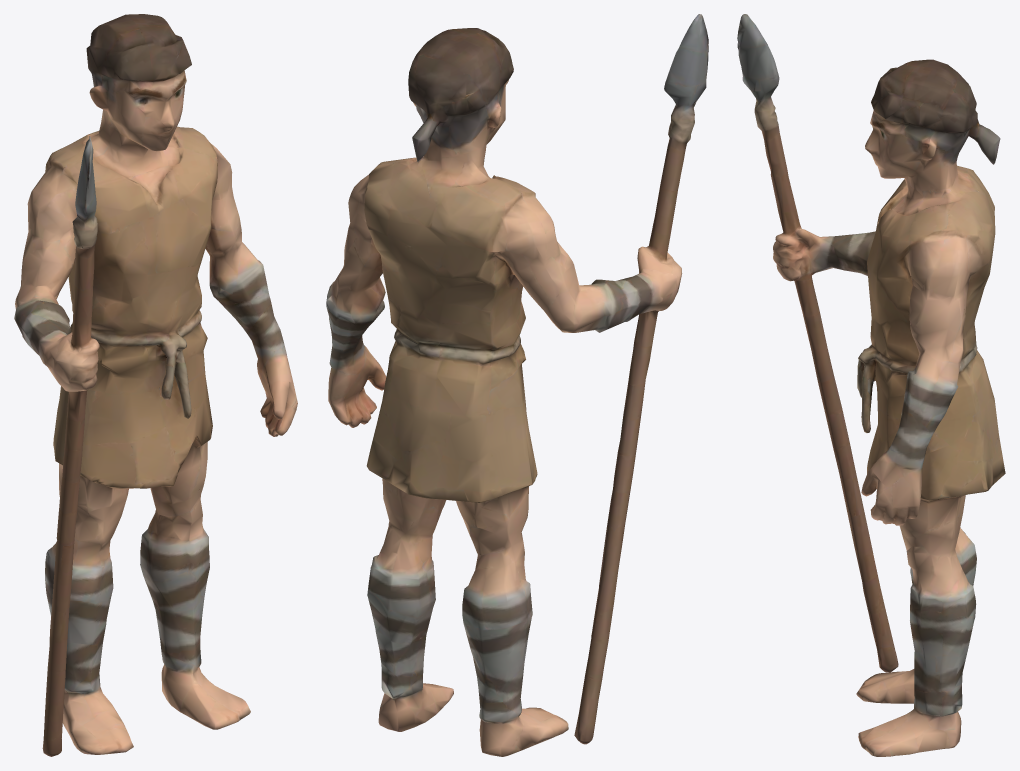
The model's file is guerrier.glb.
3 views of the same model, side by side, from view 1: azimuth 30°, elevation 25°; view 2: azimuth 150°, elevation 25°; view 3: azimuth 270°, elevation 25° (orthographic). The views are drawn at different scales.
Bounding box in the file's own units: 0.868 × 2 × 0.7475.
Materials: 1 (1 with a texture image).
